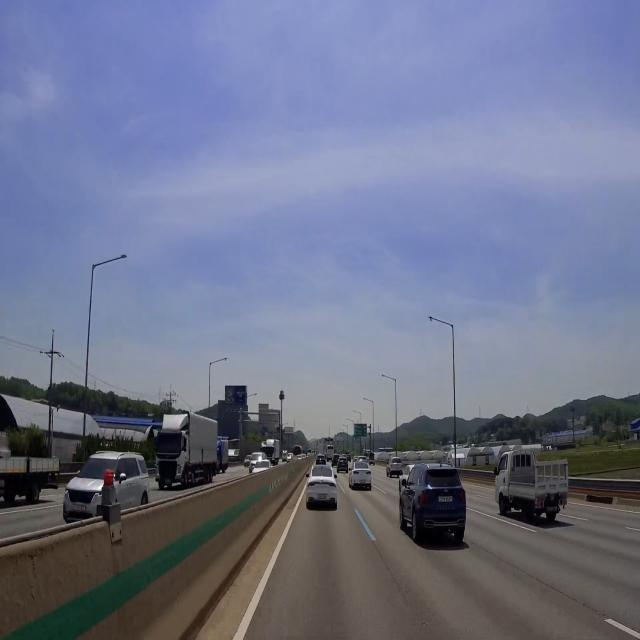car: (435, 494, 457, 509), (70, 499, 89, 516), (315, 490, 330, 506), (546, 502, 561, 513), (357, 477, 370, 488)
